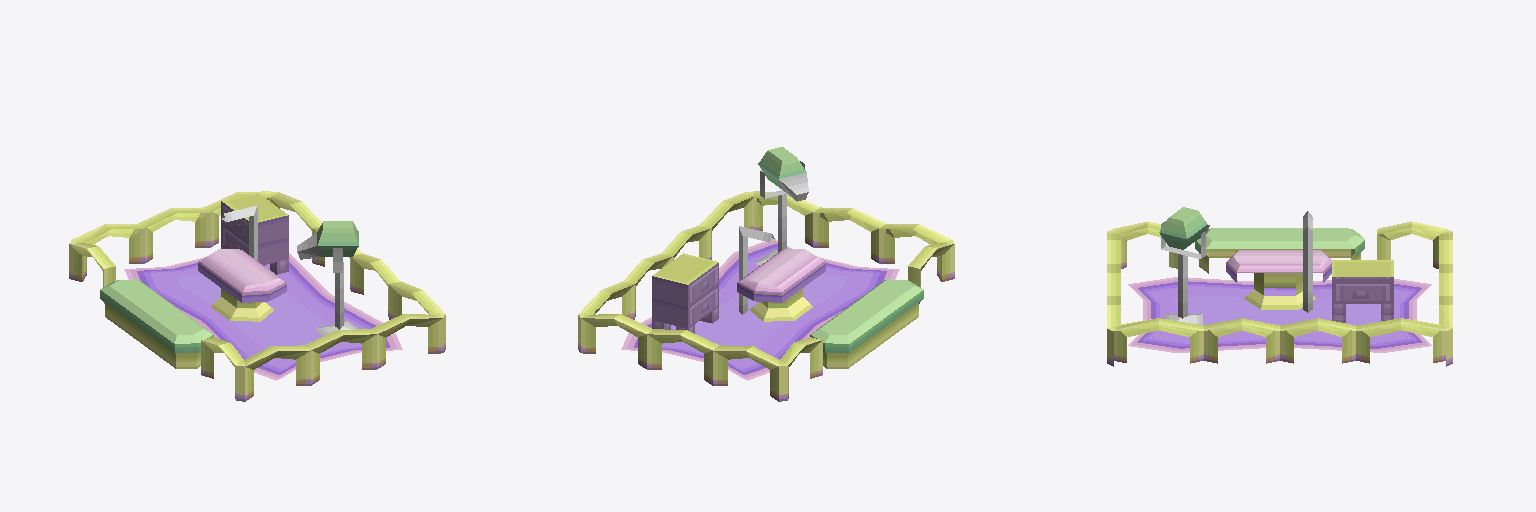
3 renders of one model, left to right at view 1: azimuth 30°, elevation 25°; view 2: azimuth 150°, elevation 25°; view 3: azimuth 270°, elevation 25°, orthographic.
Parts seen in each view (by area): view 1: polygon1; view 2: polygon1; view 3: polygon1.
Part boxes in pixels (x1,y1,x2,y2): polygon1: (69, 191, 445, 401); polygon1: (578, 147, 954, 401); polygon1: (1107, 207, 1452, 366).
Size of the model in its own units: 9.88 by 4.66 by 13.
Materials: 2 (2 with a texture image).